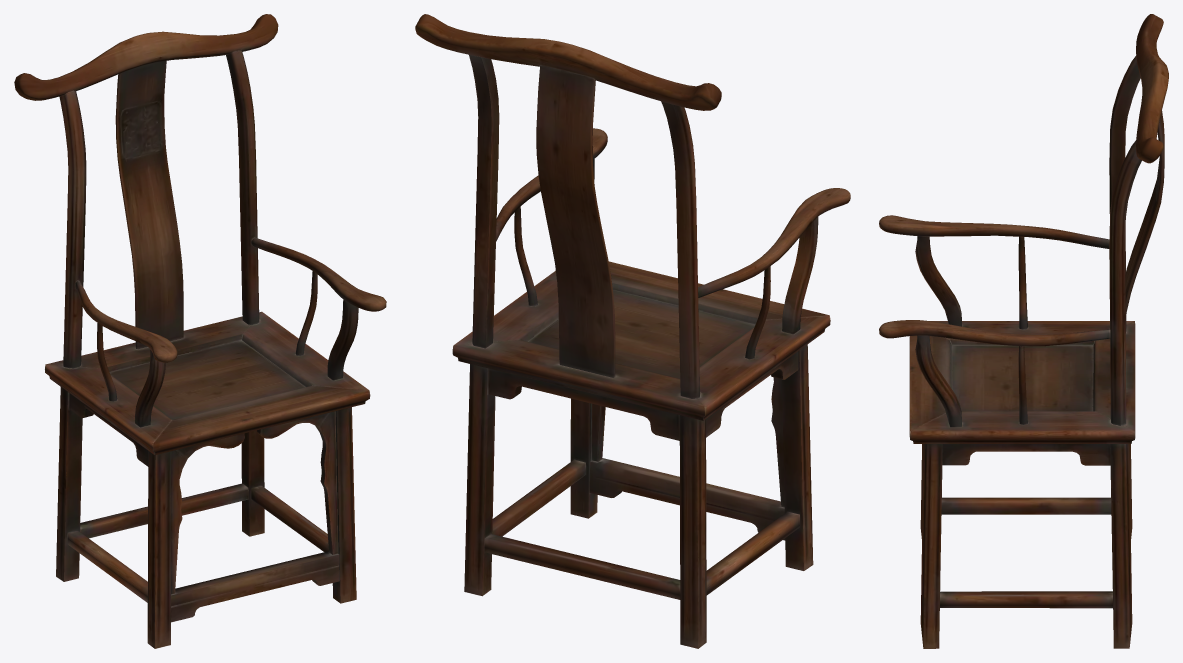
Rendered from chinese_armchair.glb.
The picture shows the model from 3 angles, left to right: view 1: azimuth 30°, elevation 25°; view 2: azimuth 150°, elevation 25°; view 3: azimuth 270°, elevation 25°; orthographic projection. The views are drawn at different scales.
Visible parts, largest first — view 1: chinese_armchair; view 2: chinese_armchair; view 3: chinese_armchair.
Part boxes in pixels (x1,y1,x2,y2): chinese_armchair: (14, 14, 386, 648); chinese_armchair: (415, 14, 850, 648); chinese_armchair: (879, 14, 1168, 648).
Size of the model in its own units: 0.8482 by 1.59 by 0.7887.
Materials: 1 (1 with a texture image).
